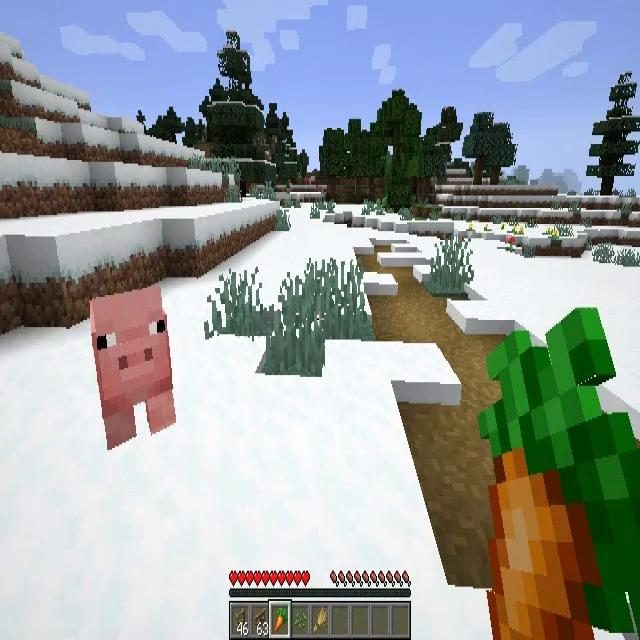pig: (91, 286, 177, 452)
